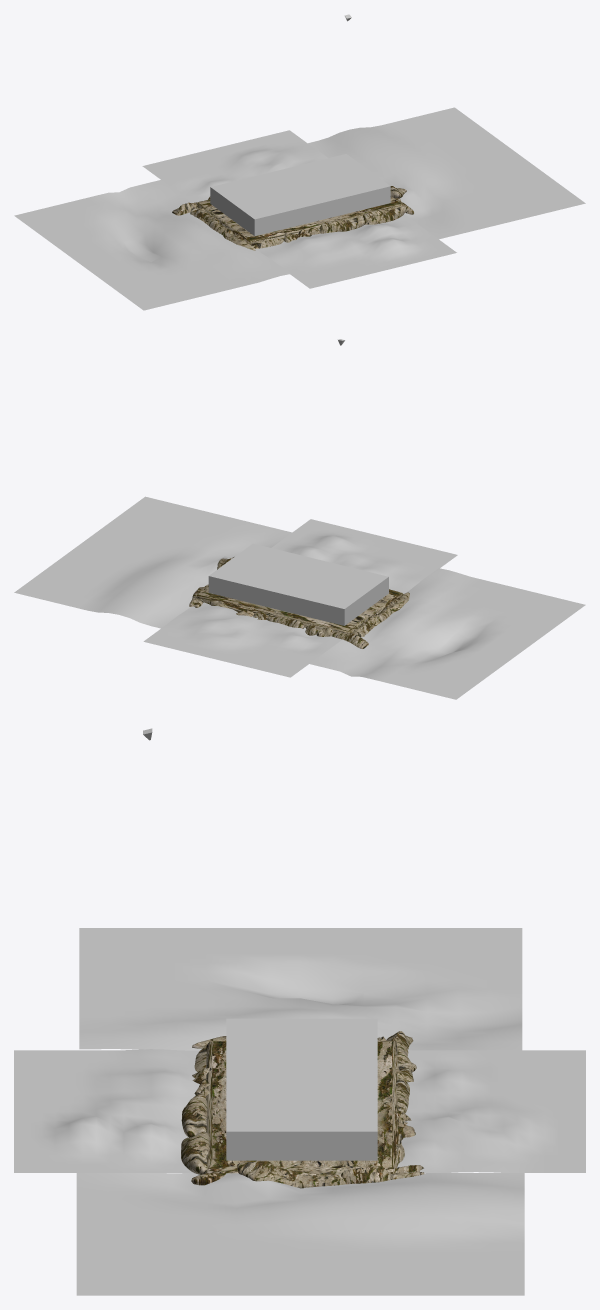
File: marMapv2.FBX
3 renders of one model, top to bottom at view 1: azimuth 30°, elevation 25°; view 2: azimuth 150°, elevation 25°; view 3: azimuth 270°, elevation 25°, orthographic. The views are drawn at different scales.
Parts seen in each view (by area): view 1: playField, worldBoundsinv; view 2: playField, worldBoundsinv; view 3: playField, worldBoundsinv.
Boxes of the visible parts, x1,y1,x2,y2 form: playField: (14,107,585,310); worldBoundsinv: (210,154,390,235); playField: (14,496,585,699); worldBoundsinv: (208,543,388,625); playField: (14,928,585,1295); worldBoundsinv: (226,1018,377,1160).
Bounding box in the file's own units: 906 × 596 × 464.
